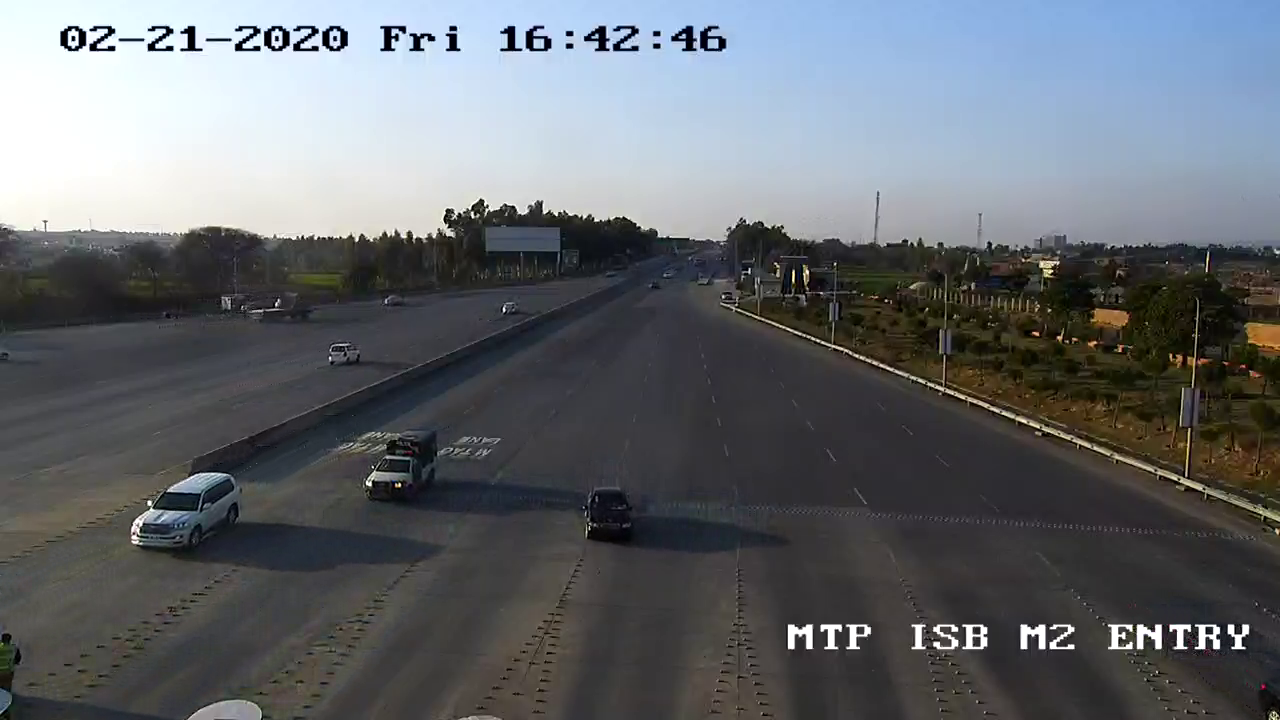f1: (119, 461, 248, 563), (575, 477, 640, 549)
f2: (346, 422, 449, 512)
